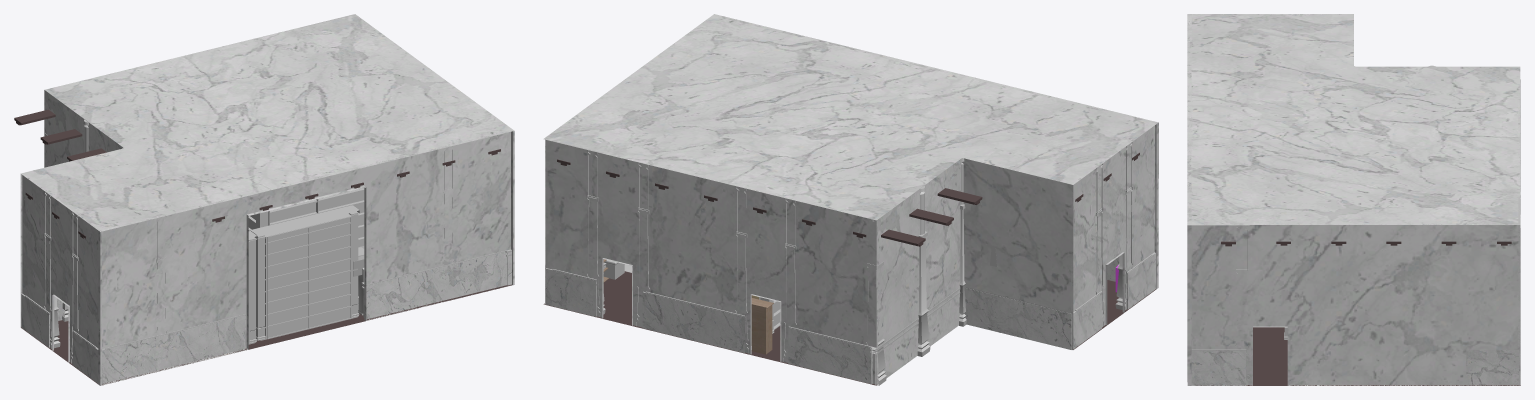
File: LivingRoomTile.fbx
The picture shows the model from 3 angles, left to right: view 1: azimuth 30°, elevation 25°; view 2: azimuth 150°, elevation 25°; view 3: azimuth 270°, elevation 25°; orthographic projection. The views are drawn at different scales.
Visible parts, largest first — view 1: LivingRoomTile, ShelfBThin__5_, ShelfBThin__6_, BooksTex__6_, ShelfB__6__1, BooksTex__6__2; view 2: LivingRoomTile, CasesShelf_1; view 3: LivingRoomTile.
Boxes of the visible parts, x1,y1,x2,y2 form: LivingRoomTile: [14, 14, 514, 385]; ShelfBThin__5_: [250, 205, 359, 340]; ShelfBThin__6_: [248, 231, 257, 344]; BooksTex__6_: [270, 191, 364, 246]; ShelfB__6__1: [248, 188, 364, 240]; BooksTex__6__2: [304, 188, 364, 219]; LivingRoomTile: [543, 14, 1158, 385]; CasesShelf_1: [751, 298, 773, 354]; LivingRoomTile: [1187, 14, 1520, 385].
Size of the model in its own units: 2400 by 859 by 1600.
